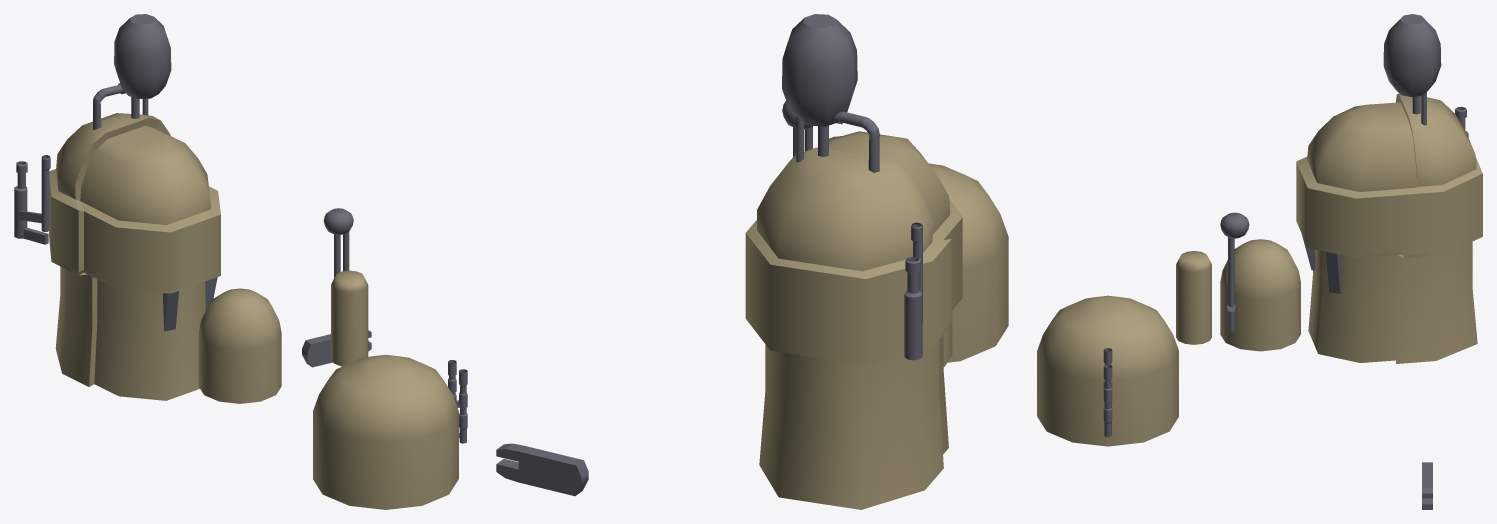
File: Observatory.fbx
3 views of the same model, side by side, from view 1: azimuth 30°, elevation 25°; view 2: azimuth 150°, elevation 25°; view 3: azimuth 270°, elevation 25° (orthographic). The views are drawn at different scales.
Parts seen in each view (by area): view 1: Observatory (×2), Front_Obsrvatory_Building, Lower_Building_Observatory, Top_Cyl_on_Observatory_Tower1, Front_Observatory_Building_Cyl, Rear_Steam_Pipe_Observatory, Round_Pipe_Front, Steam_Pipe_Front_Observatory, Claw_Object_Observatory; view 2: Observatory, Front_Obsrvatory_Building, Top_Cyl_on_Observatory_Tower1, Claw_Object_Observatory, Rear_Steam_Pipe_Observatory, Round_Pipe_Front; view 3: Observatory (×2), Front_Obsrvatory_Building, Lower_Building_Observatory, Top_Cyl_on_Observatory_Tower1, Front_Observatory_Building_Cyl, Round_Pipe_Front, Steam_Pipe_Front_Observatory, Claw_Object_Observatory.
Part boxes in pixels (<box>): Observatory (×2): <box>49,113,220,400</box>; Front_Obsrvatory_Building: <box>313,354,458,509</box>; Lower_Building_Observatory: <box>198,288,281,403</box>; Top_Cyl_on_Observatory_Tower1: <box>93,14,171,129</box>; Front_Observatory_Building_Cyl: <box>331,270,368,366</box>; Rear_Steam_Pipe_Observatory: <box>14,155,50,244</box>; Round_Pipe_Front: <box>323,208,353,277</box>; Steam_Pipe_Front_Observatory: <box>448,360,467,443</box>; Claw_Object_Observatory: <box>302,330,371,367</box>; Observatory: <box>745,131,962,509</box>; Front_Obsrvatory_Building: <box>928,163,1008,362</box>; Top_Cyl_on_Observatory_Tower1: <box>782,14,879,172</box>; Claw_Object_Observatory: <box>496,443,588,496</box>; Rear_Steam_Pipe_Observatory: <box>904,222,922,360</box>; Round_Pipe_Front: <box>782,101,812,156</box>; Observatory (×2): <box>1296,93,1482,363</box>; Front_Obsrvatory_Building: <box>1037,295,1178,446</box>; Lower_Building_Observatory: <box>1220,239,1300,351</box>; Top_Cyl_on_Observatory_Tower1: <box>1383,14,1441,125</box>; Front_Observatory_Building_Cyl: <box>1176,251,1211,344</box>; Round_Pipe_Front: <box>1220,212,1249,331</box>; Steam_Pipe_Front_Observatory: <box>1103,348,1112,436</box>; Claw_Object_Observatory: <box>1422,462,1432,509</box>.
Bounding box in the file's own units: 12.84 × 14.39 × 15.16.
